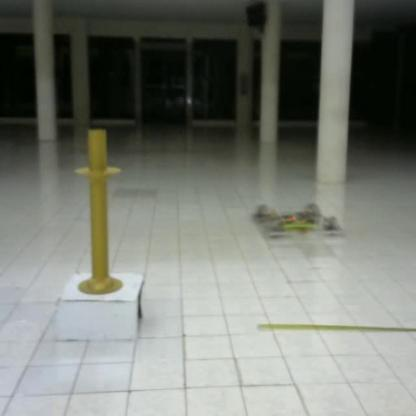pole: (73, 124, 126, 308)
